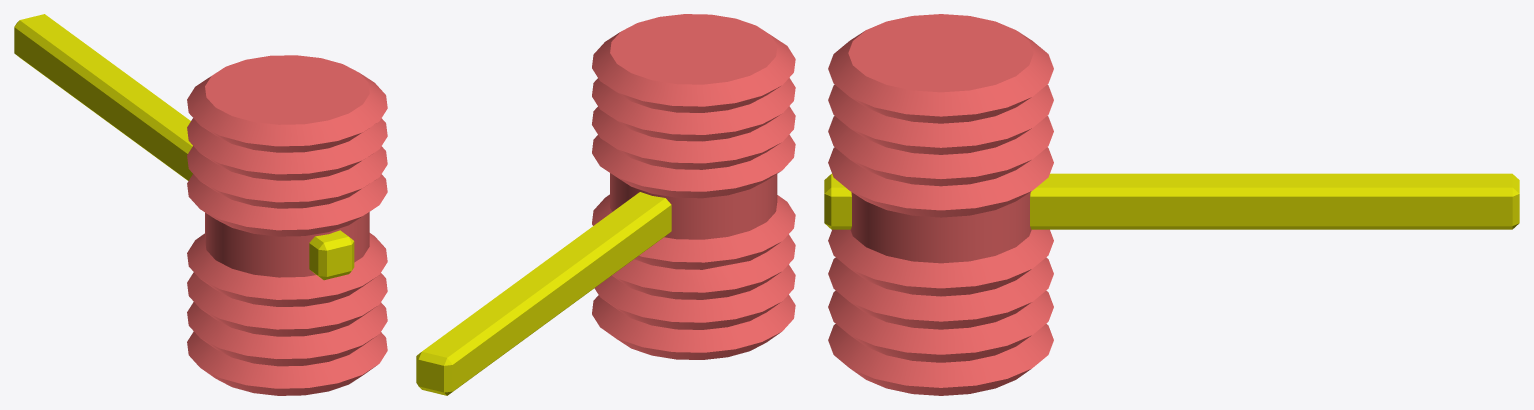
File: PicopicoHammer_06.fbx
The picture shows the model from 3 angles, left to right: view 1: azimuth 30°, elevation 25°; view 2: azimuth 150°, elevation 25°; view 3: azimuth 270°, elevation 25°; orthographic projection. The views are drawn at different scales.
Parts seen in each view (by area): view 1: pCube2; view 2: pCube2; view 3: pCube2.
Boxes of the visible parts, box(x1,y1,x2,y2) form: pCube2: box(14, 14, 387, 395); pCube2: box(416, 14, 795, 395); pCube2: box(824, 14, 1519, 395).
Size of the model in its own units: 2.44 by 3.61 by 7.49.
